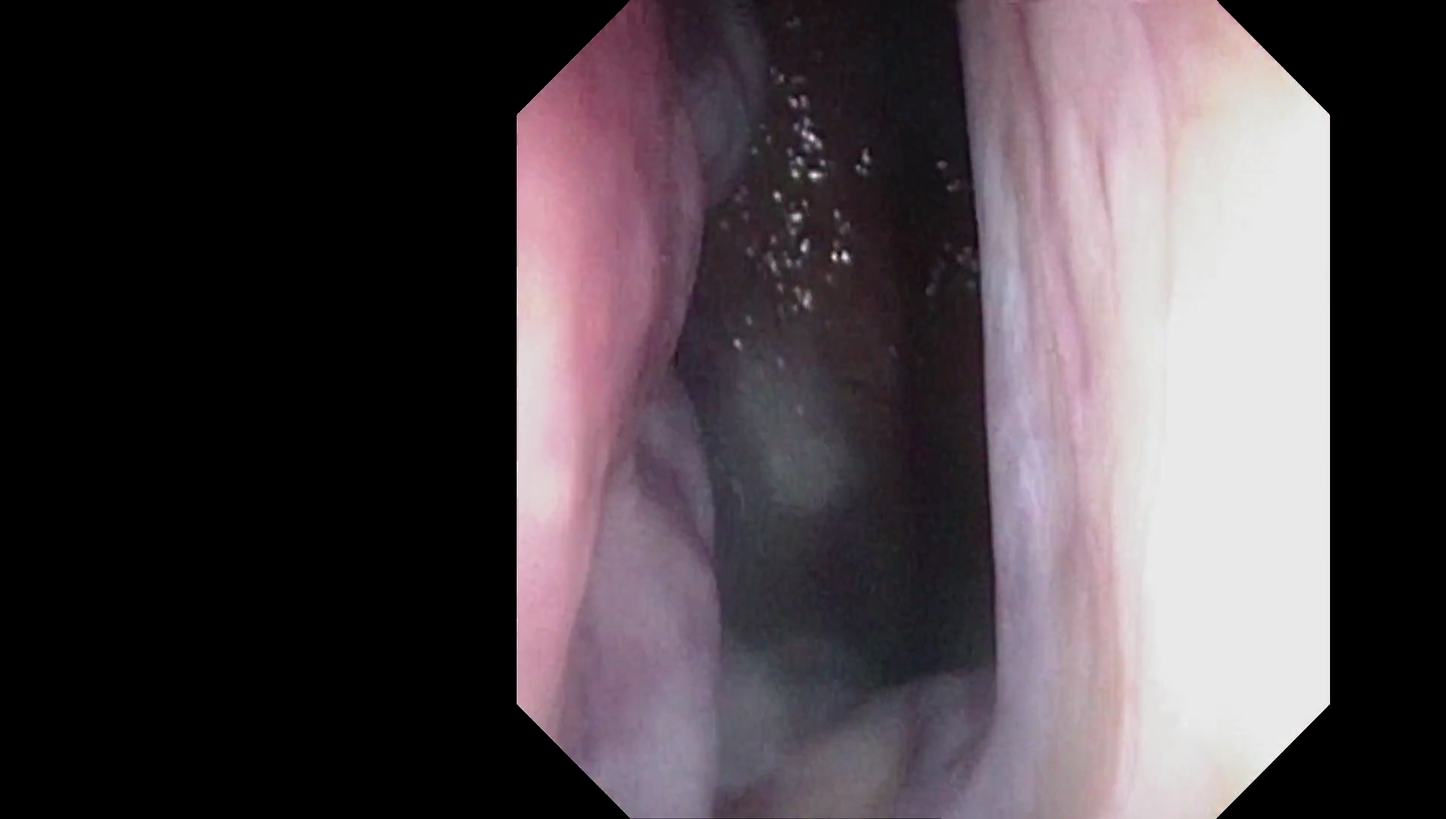close_wall: (1023, 98, 1321, 703), (523, 188, 620, 574)
next: (734, 319, 1031, 711)
